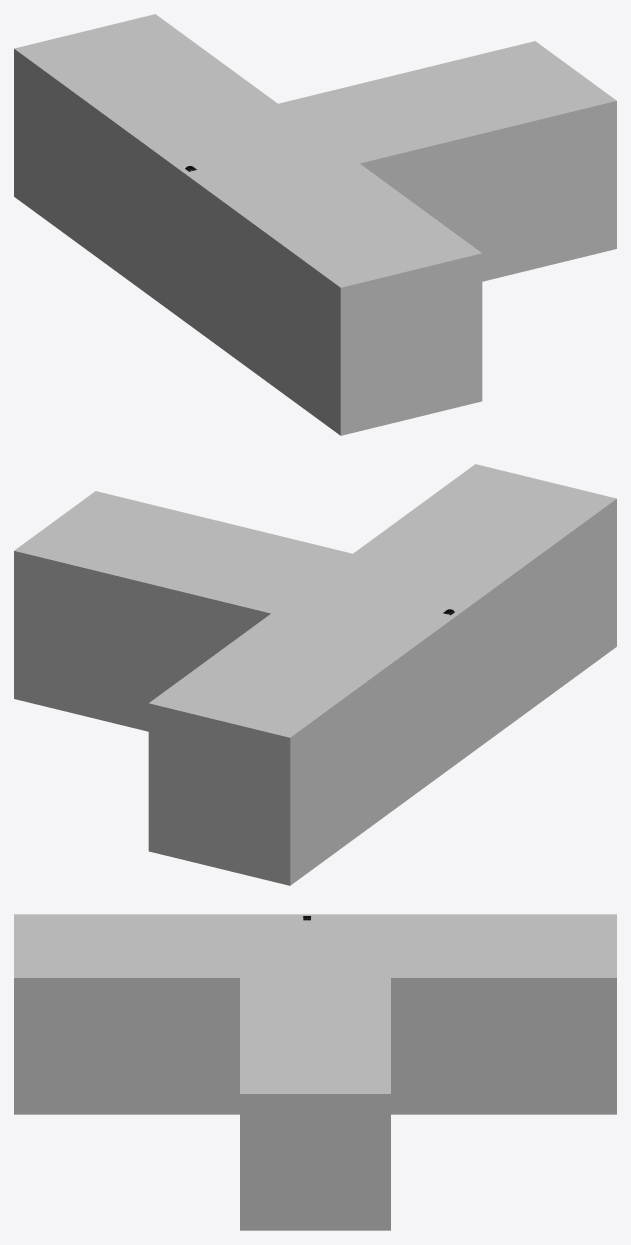
The model's file is corridor2.obj.
The picture shows the model from 3 angles, top to bottom: view 1: azimuth 30°, elevation 25°; view 2: azimuth 150°, elevation 25°; view 3: azimuth 270°, elevation 25°; orthographic projection. The views are drawn at different scales.
Visible parts, largest first — view 1: corridor2; view 2: corridor2; view 3: corridor2.
Part boxes in pixels (<box>): corridor2: <box>14,14,616,435</box>; corridor2: <box>14,464,616,885</box>; corridor2: <box>14,914,616,1230</box>.
Bounding box in the file's own units: 5.64 × 2.02 × 8.
2 materials, 1 textured.
